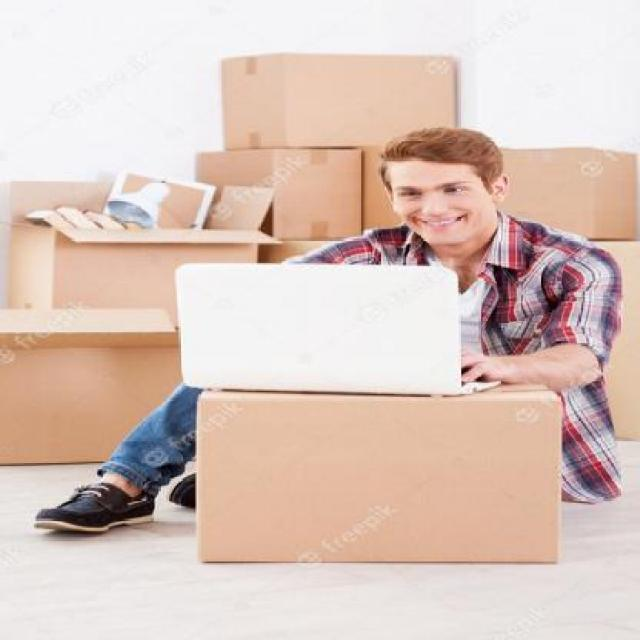box: (196, 381, 564, 566), (5, 176, 258, 318), (0, 310, 198, 467), (363, 148, 639, 238), (220, 52, 456, 152), (198, 150, 364, 241)
